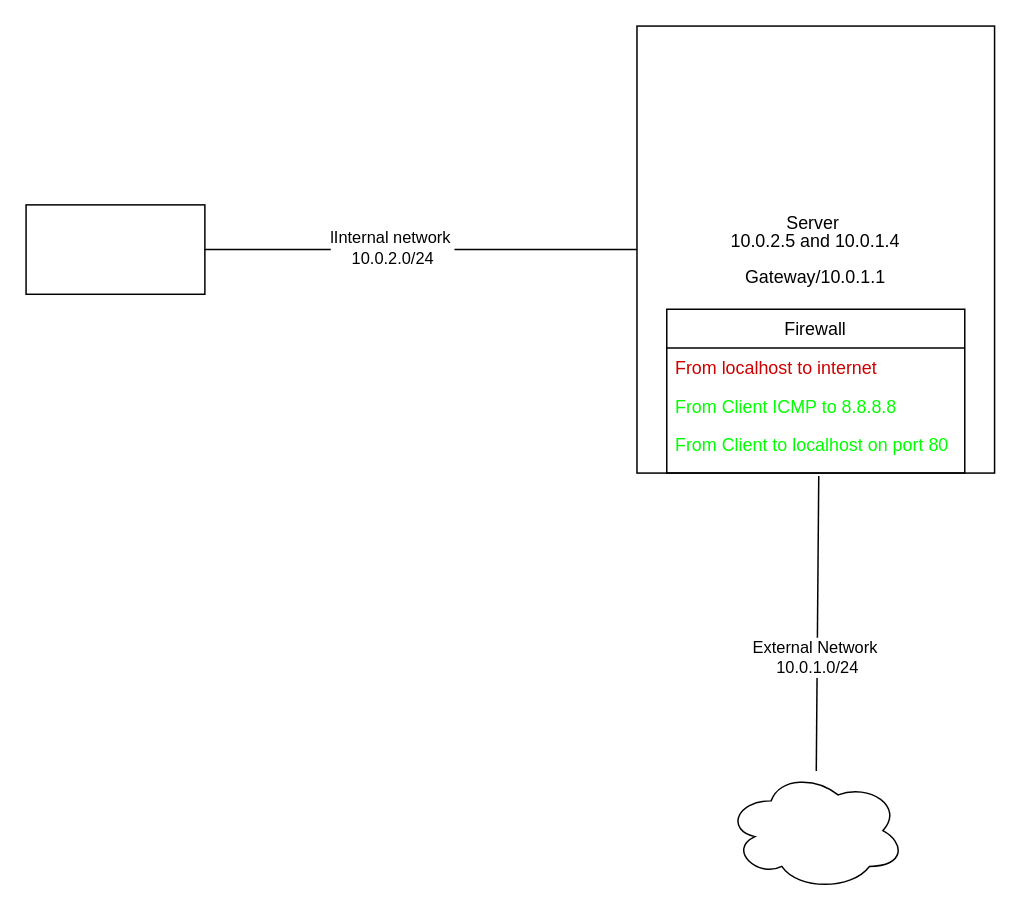
Image size: 1021x916. Some labels were removed from this diagram. Each missing label, with the centre of its shape:
"Client 10.0.2.4 gateway/10.0.2.5" goes at point (115, 248).
"Internet" goes at point (815, 830).
